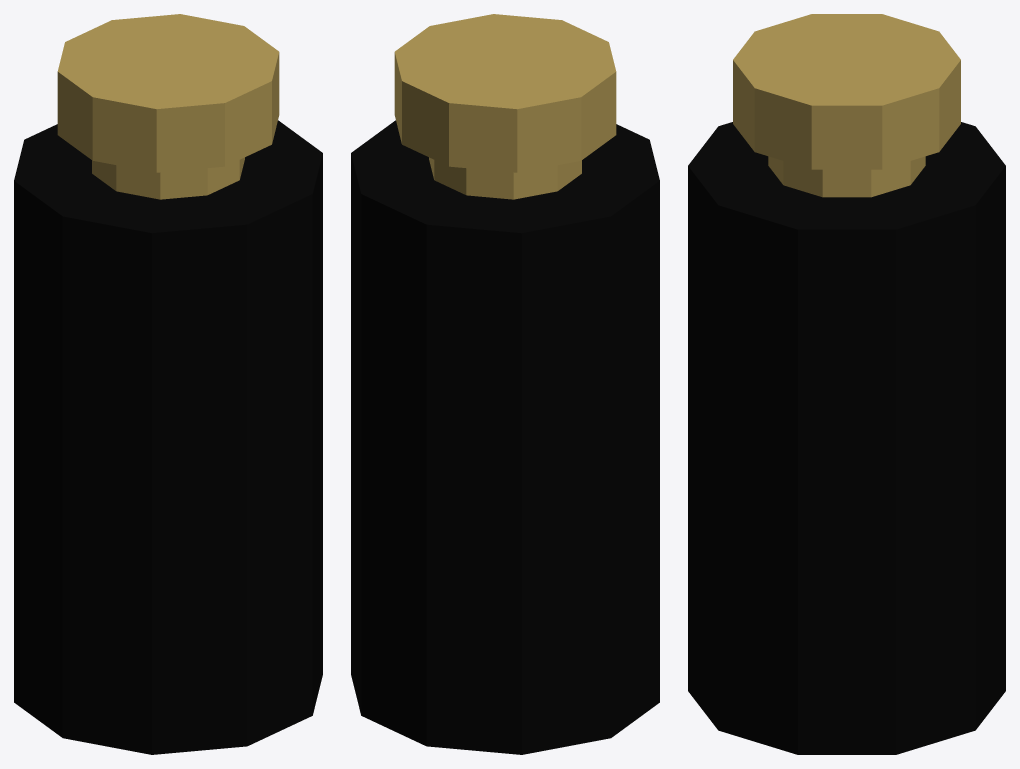
Rendered from PressurePad.glb.
3 views of the same model, side by side, from view 1: azimuth 30°, elevation 25°; view 2: azimuth 150°, elevation 25°; view 3: azimuth 270°, elevation 25° (orthographic).
Parts seen in each view (by area): view 1: Poison_Circle.008; view 2: Poison_Circle.008; view 3: Poison_Circle.008.
Part boxes in pixels (x1,y1,x2,y2): Poison_Circle.008: (14, 14, 322, 754); Poison_Circle.008: (351, 14, 659, 754); Poison_Circle.008: (688, 14, 1005, 754).
Size of the model in its own units: 2.74 by 6.31 by 2.88.
